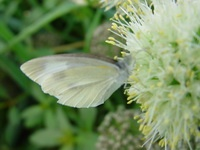insect: (107, 1, 199, 112), (20, 54, 127, 107), (20, 54, 126, 107)
